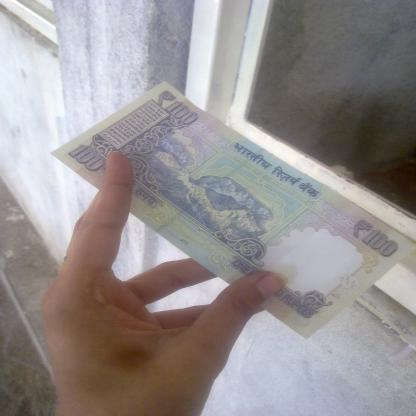Old100Back: (49, 81, 415, 341)
